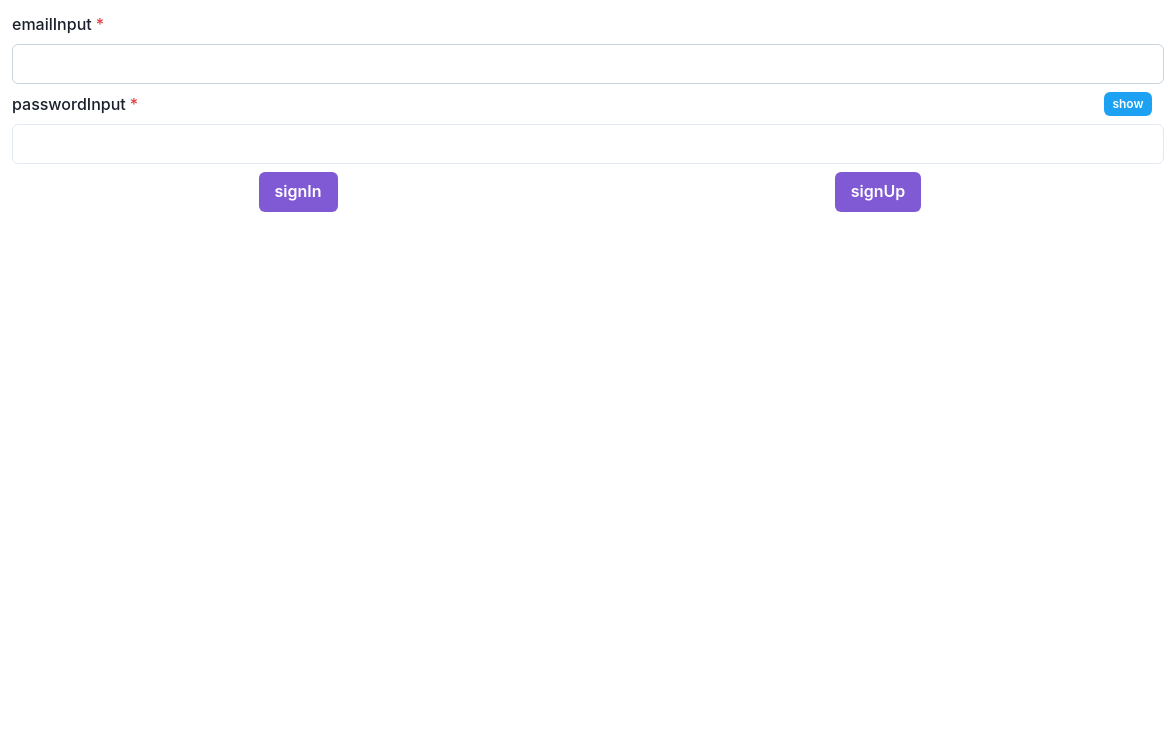
Test: EmailLogin component › Sign Up
This screenshot has width=1176, height=732.
In the field with test id "emailInput": (588,64) x1=12 y1=44 x2=1164 y2=84, type "test@test.test"
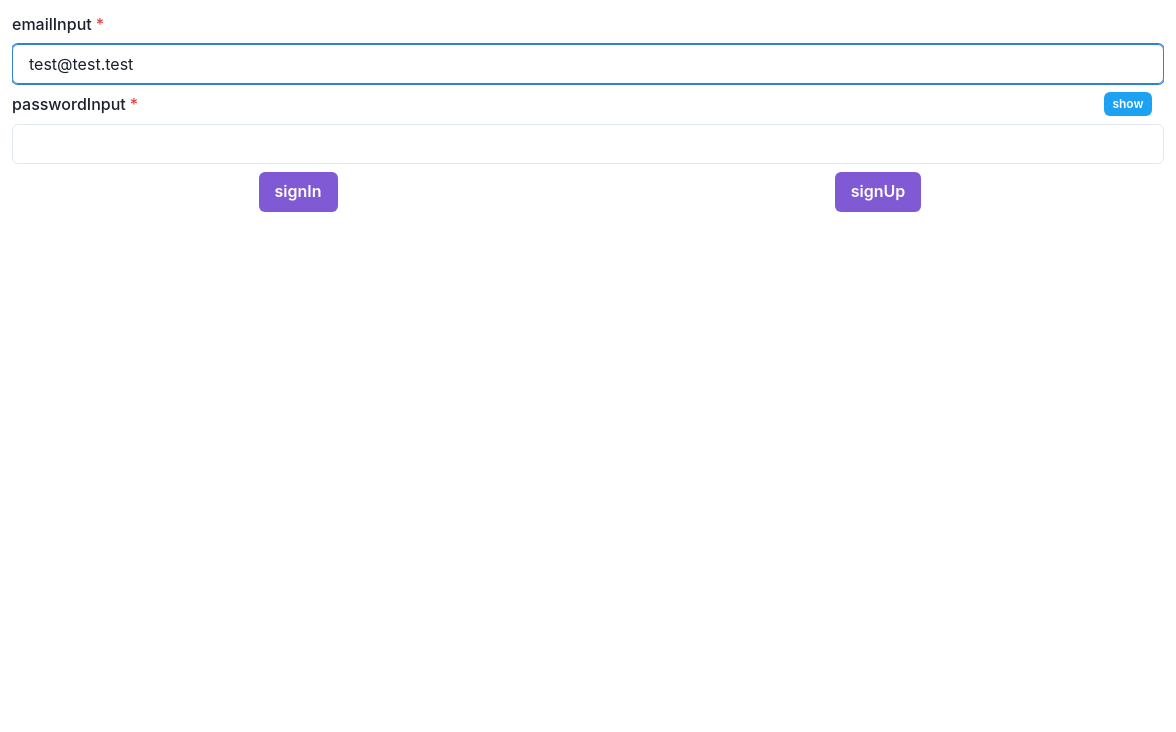
In the password field with test id "passwordInput": (588,144) x1=12 y1=124 x2=1164 y2=164, type "test_password"
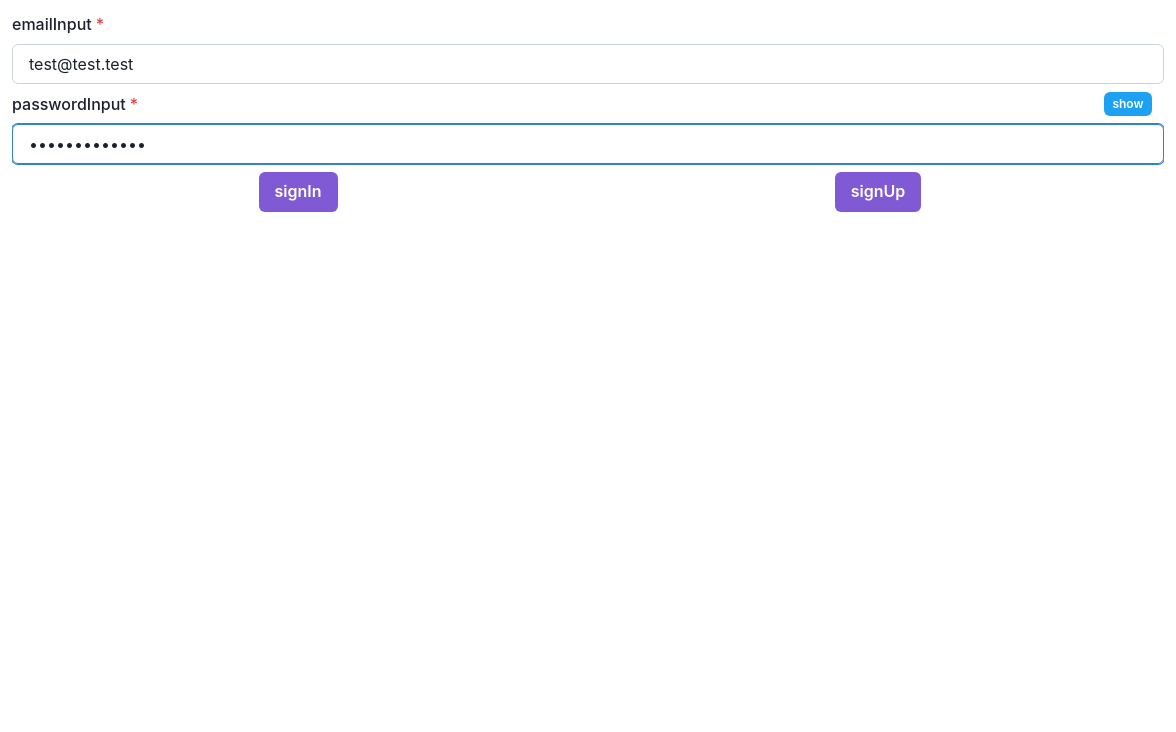
Click the button with test id "signUp": (878,192) x1=835 y1=172 x2=921 y2=212
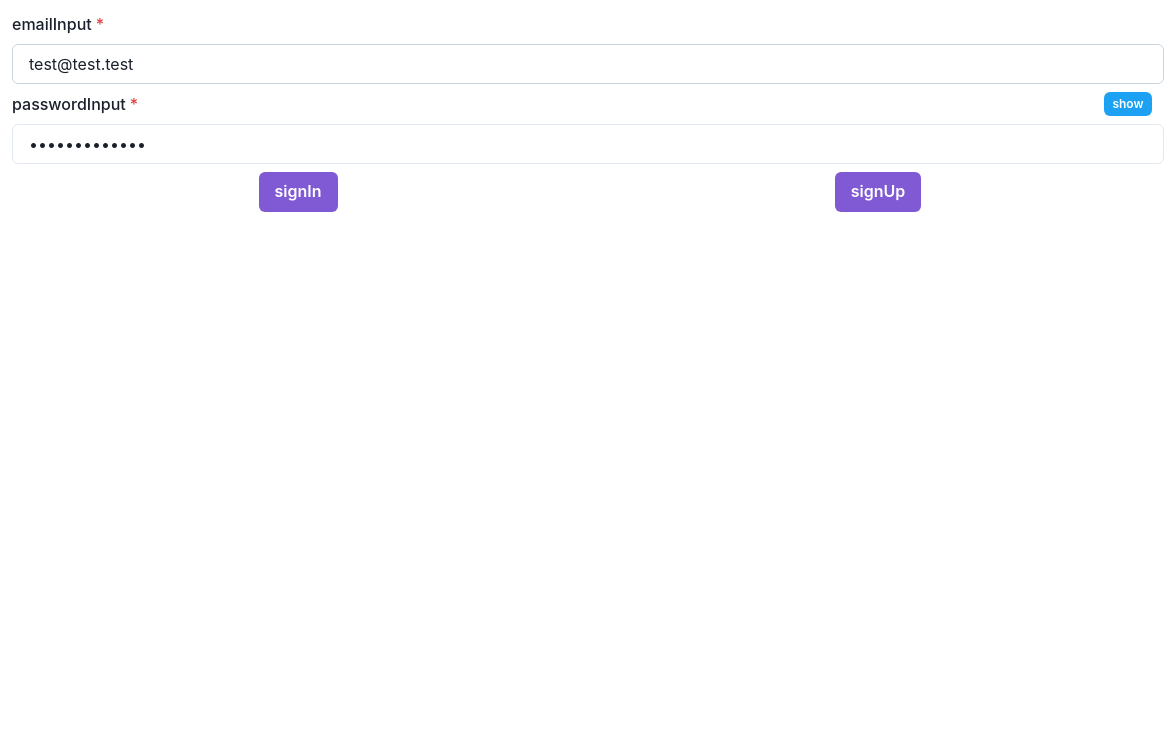
Click the button with test id "signUp": (878,192) x1=835 y1=172 x2=921 y2=212
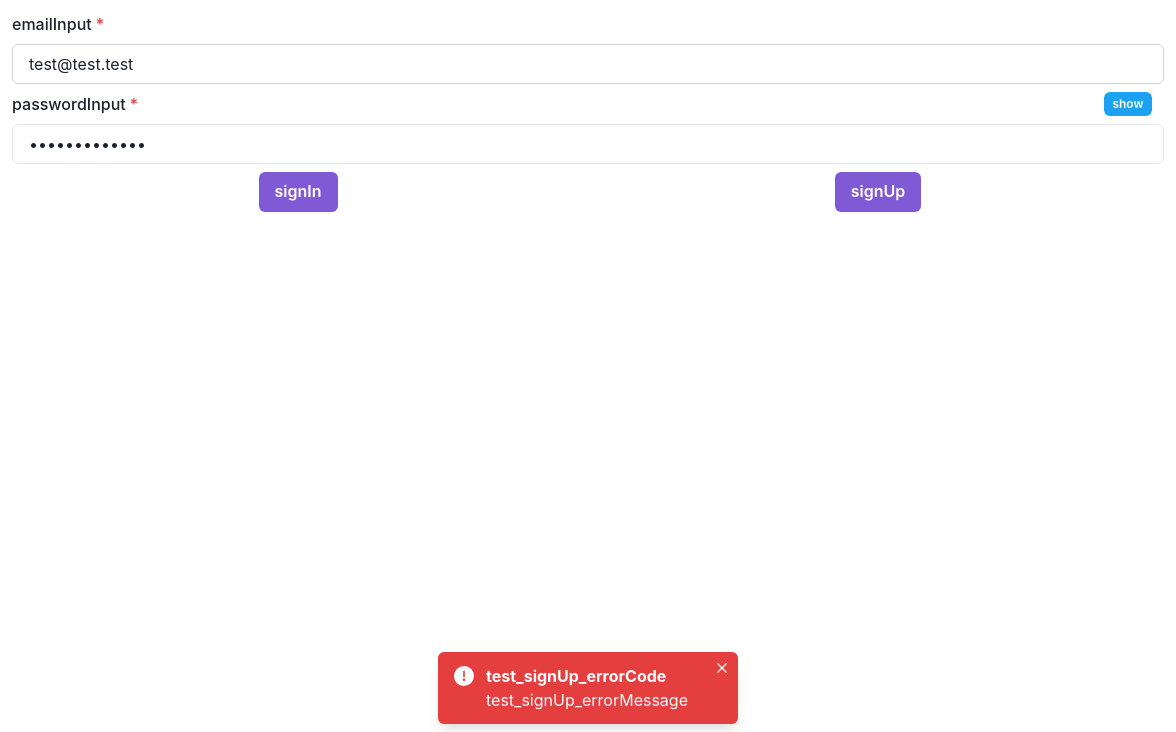
Now the 2nd text "test_signUp_errorCode" is shown, box x1=486 y1=664 x2=698 y2=688
